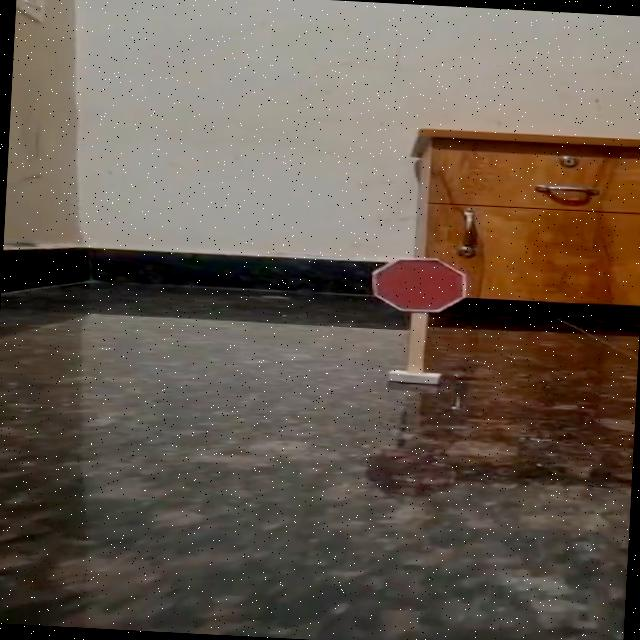Stop: (352, 246, 488, 322)
